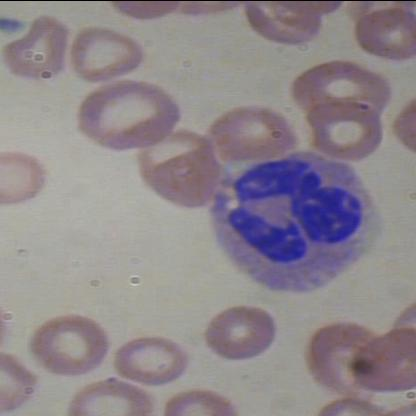RBC: (75, 76, 183, 158), (286, 58, 394, 122), (205, 102, 303, 168), (30, 310, 112, 382), (1, 11, 75, 87), (306, 96, 386, 164), (67, 24, 151, 86), (204, 301, 282, 365), (150, 145, 228, 209), (114, 330, 194, 387), (64, 376, 157, 416), (349, 5, 415, 61), (1, 150, 57, 208), (158, 379, 242, 415)
WBC: (188, 138, 392, 301)
